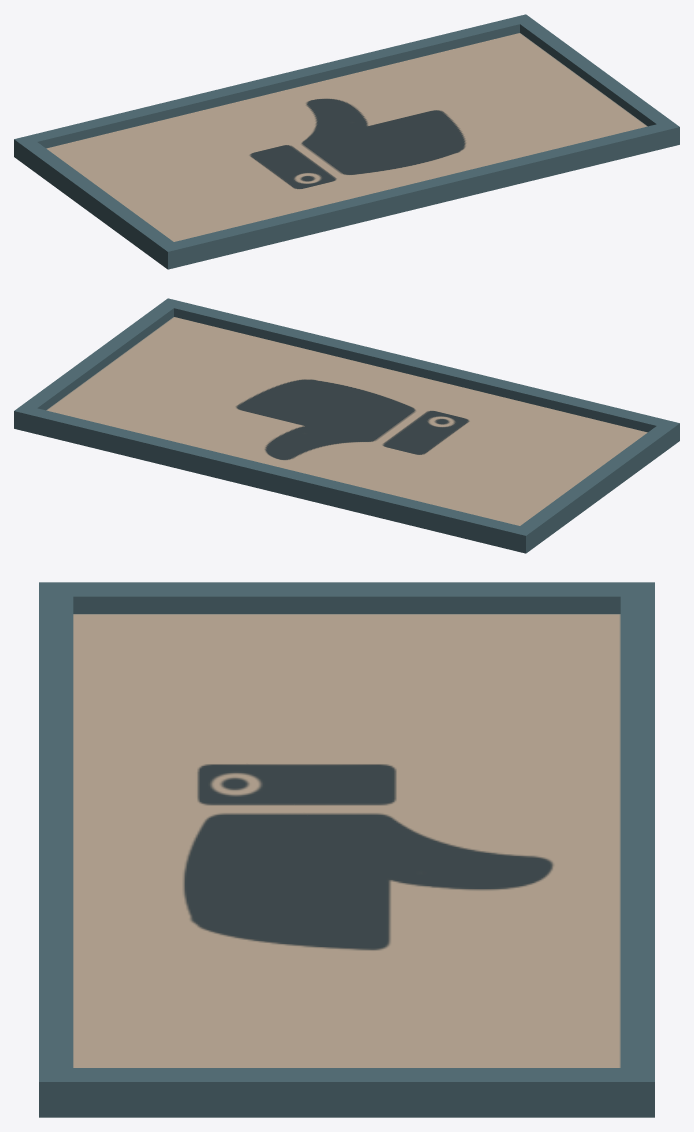
File: Sign_ThumbsUp.glb
3 views of the same model, one above another, from view 1: azimuth 30°, elevation 25°; view 2: azimuth 150°, elevation 25°; view 3: azimuth 270°, elevation 25° (orthographic). The views are drawn at different scales.
Parts seen in each view (by area): view 1: Thumbs Up; view 2: Thumbs Up; view 3: Thumbs Up.
Boxes of the visible parts, x1,y1,x2,y2 form: Thumbs Up: (14, 14, 679, 269); Thumbs Up: (14, 298, 679, 553); Thumbs Up: (39, 582, 654, 1117).
Bounding box in the file's own units: 3.84 × 0.1273 × 2.
Materials: 1 (1 with a texture image).
